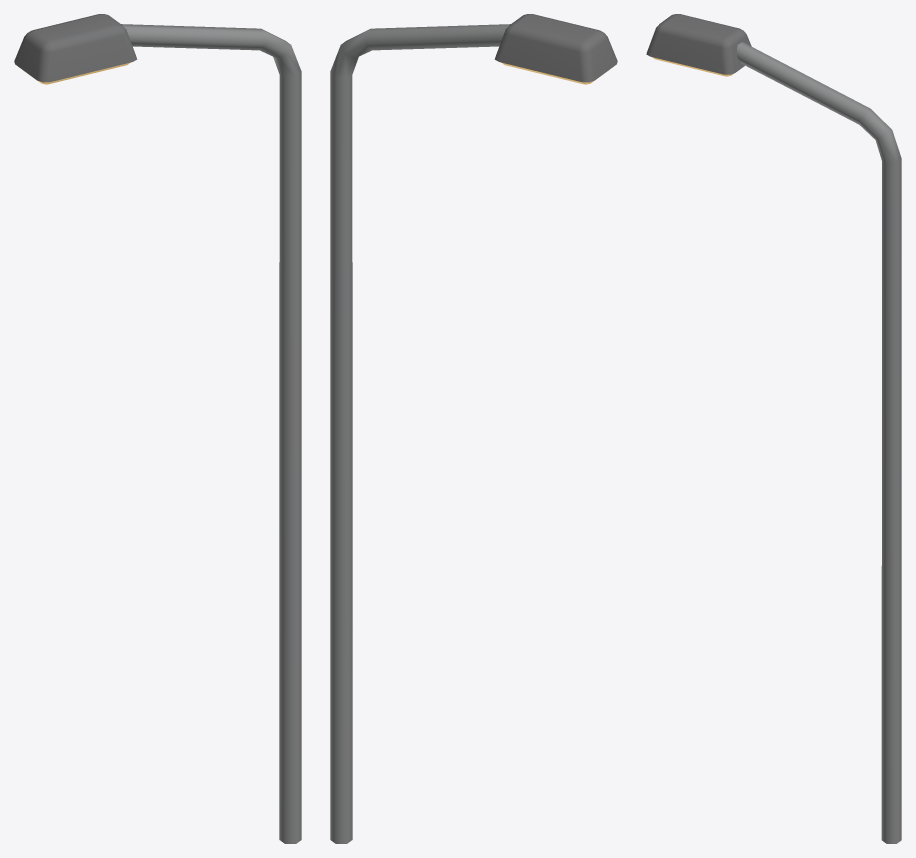
Rendered from Lamp_01.glb.
3 views of the same model, side by side, from view 1: azimuth 30°, elevation 25°; view 2: azimuth 150°, elevation 25°; view 3: azimuth 330°, elevation 25° (orthographic). The views are drawn at different scales.
Parts seen in each view (by area): view 1: Lamp_01; view 2: Lamp_01; view 3: Lamp_01.
Boxes of the visible parts, x1,y1,x2,y2 form: Lamp_01: (14,14,301,843); Lamp_01: (330,14,617,843); Lamp_01: (646,14,901,843).
Bounding box in the file's own units: 3.2 × 9.7 × 0.6483.
2 materials, 2 textured.
